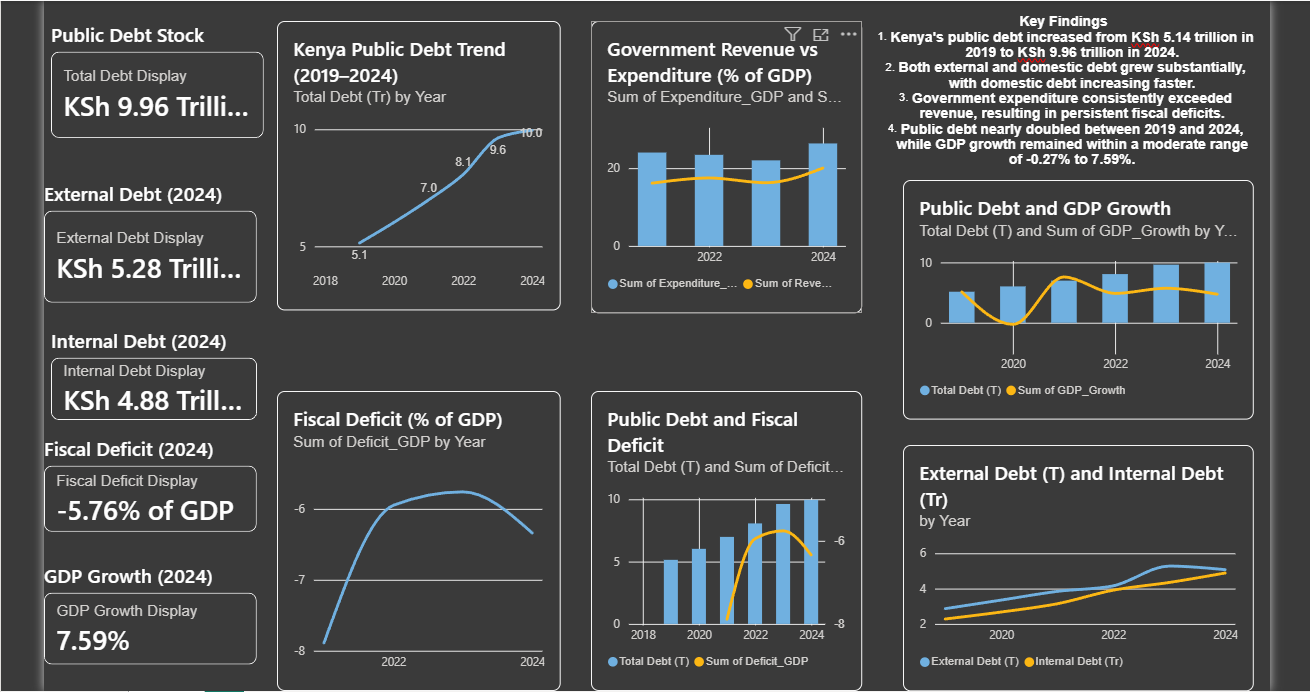

What the dashboard file says about the page in this screenshot:
{"tool":"powerbi","page":{"name":"Page 1","canvas":[1280,720],"ordinal":0},"visuals":[{"type":"cardVisual","title":"Public Debt Stock","fields":{"Data":["final_dataset.Total Debt Display"]},"box":[7.3,20.9,222.3,122.1],"z":0},{"type":"cardVisual","title":"External Debt (2024)","fields":{"Data":["final_dataset.External Debt Display"]},"box":[0,186.8,222.3,128.3],"z":1000},{"type":"cardVisual","title":"Internal Debt (2024)","fields":{"Data":["final_dataset.Internal Debt Display"]},"box":[6.9,340.3,215.4,97.4],"z":2000},{"type":"cardVisual","title":"GDP Growth (2024)","fields":{"Data":["final_dataset.GDP Growth Display"]},"box":[0,585.6,222.3,107.7],"z":3000},{"type":"cardVisual","title":"Fiscal Deficit (2024)","fields":{"Data":["final_dataset.Fiscal Deficit Display"]},"box":[0,452.6,222.3,102],"z":4000},{"type":"lineChart","title":"Kenya Public Debt Trend (2019–2024)","fields":{"Category":["final_dataset.Year"],"Y":["final_dataset.Total Debt (Tr)"]},"box":[243.1,20.9,296.3,301.6],"z":5000},{"type":"lineClusteredColumnComboChart","title":"Public Debt and GDP Growth","fields":{"Y":["final_dataset.Total Debt (T)"],"Y2":["Sum(final_dataset.GDP_Growth)"],"Category":["final_dataset.Year"]},"box":[896.3,186.8,366.3,250.4],"z":6000},{"type":"lineClusteredColumnComboChart","title":"Government Revenue vs Expenditure (% of GDP)","fields":{"Y":["Sum(final_dataset.Expenditure_GDP)"],"Category":["final_dataset.Year"],"Y2":["Sum(final_dataset.Revenue_GDP)"]},"box":[570.8,20.9,282.8,304.7],"z":7000},{"type":"lineChart","title":"Fiscal Deficit (% of GDP)","fields":{"Category":["final_dataset.Year"],"Y":["Sum(final_dataset.Deficit_GDP)"]},"box":[243.1,407,296.3,313],"z":8000},{"type":"lineClusteredColumnComboChart","title":"Public Debt and Fiscal Deficit","fields":{"Category":["final_dataset.Year"],"Y2":["Sum(final_dataset.Deficit_GDP)"],"Y":["final_dataset.Total Debt (T)"]},"box":[570.8,407,282.8,313],"z":9000},{"type":"lineChart","fields":{"Category":["final_dataset.Year"],"Y":["final_dataset.External Debt (T)","final_dataset.Internal Debt (Tr)"]},"box":[896.3,463.3,366.3,256.7],"z":9001},{"type":"textbox","box":[865,13.6,397.6,224.3],"z":9002}]}

Visuals, with their boxes on the page's 1280x720 design canvas (x1, y1, x2, y2). These are canvas units, not pixel positions in the 1310x692 screenshot, which may show the page scaled, cropped or inside an application window:
"Public Debt Stock" cardVisual: rect(7, 21, 230, 143)
"External Debt (2024)" cardVisual: rect(0, 187, 222, 315)
"Internal Debt (2024)" cardVisual: rect(7, 340, 222, 438)
"GDP Growth (2024)" cardVisual: rect(0, 586, 222, 693)
"Fiscal Deficit (2024)" cardVisual: rect(0, 453, 222, 555)
"Kenya Public Debt Trend (2019–2024)" lineChart: rect(243, 21, 539, 322)
"Public Debt and GDP Growth" lineClusteredColumnComboChart: rect(896, 187, 1263, 437)
"Government Revenue vs Expenditure (% of GDP)" lineClusteredColumnComboChart: rect(571, 21, 854, 326)
"Fiscal Deficit (% of GDP)" lineChart: rect(243, 407, 539, 720)
"Public Debt and Fiscal Deficit" lineClusteredColumnComboChart: rect(571, 407, 854, 720)
lineChart - final_dataset.Year x final_dataset.External Debt (T): rect(896, 463, 1263, 720)
textbox: rect(865, 14, 1263, 238)
